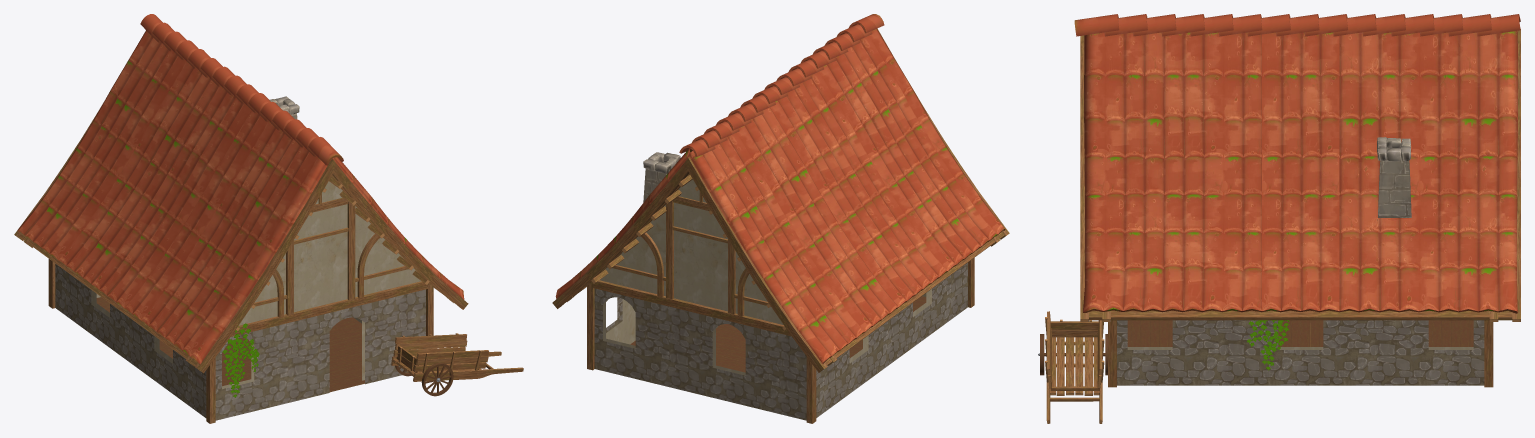
File: med-hall-v3.glb
3 views of the same model, side by side, from view 1: azimuth 30°, elevation 25°; view 2: azimuth 150°, elevation 25°; view 3: azimuth 270°, elevation 25° (orthographic). The views are drawn at different scales.
Visible parts, largest first — view 1: med-hall-v3; view 2: med-hall-v3; view 3: med-hall-v3.
Boxes of the visible parts, x1,y1,x2,y2 form: med-hall-v3: (14, 14, 523, 423); med-hall-v3: (552, 14, 1009, 423); med-hall-v3: (1038, 14, 1520, 423).
Bounding box in the file's own units: 11.45 × 9 × 12.83.
7 materials, 7 textured.
